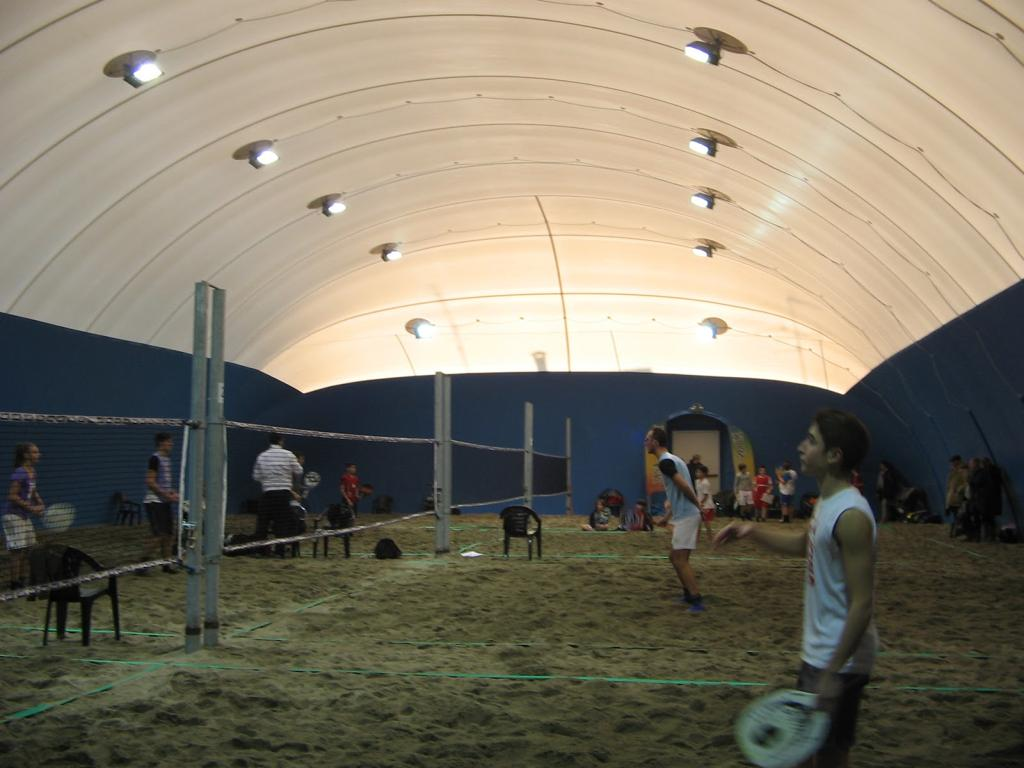face: (797, 423, 825, 472), (644, 430, 654, 449), (28, 446, 39, 463), (162, 437, 174, 451)
